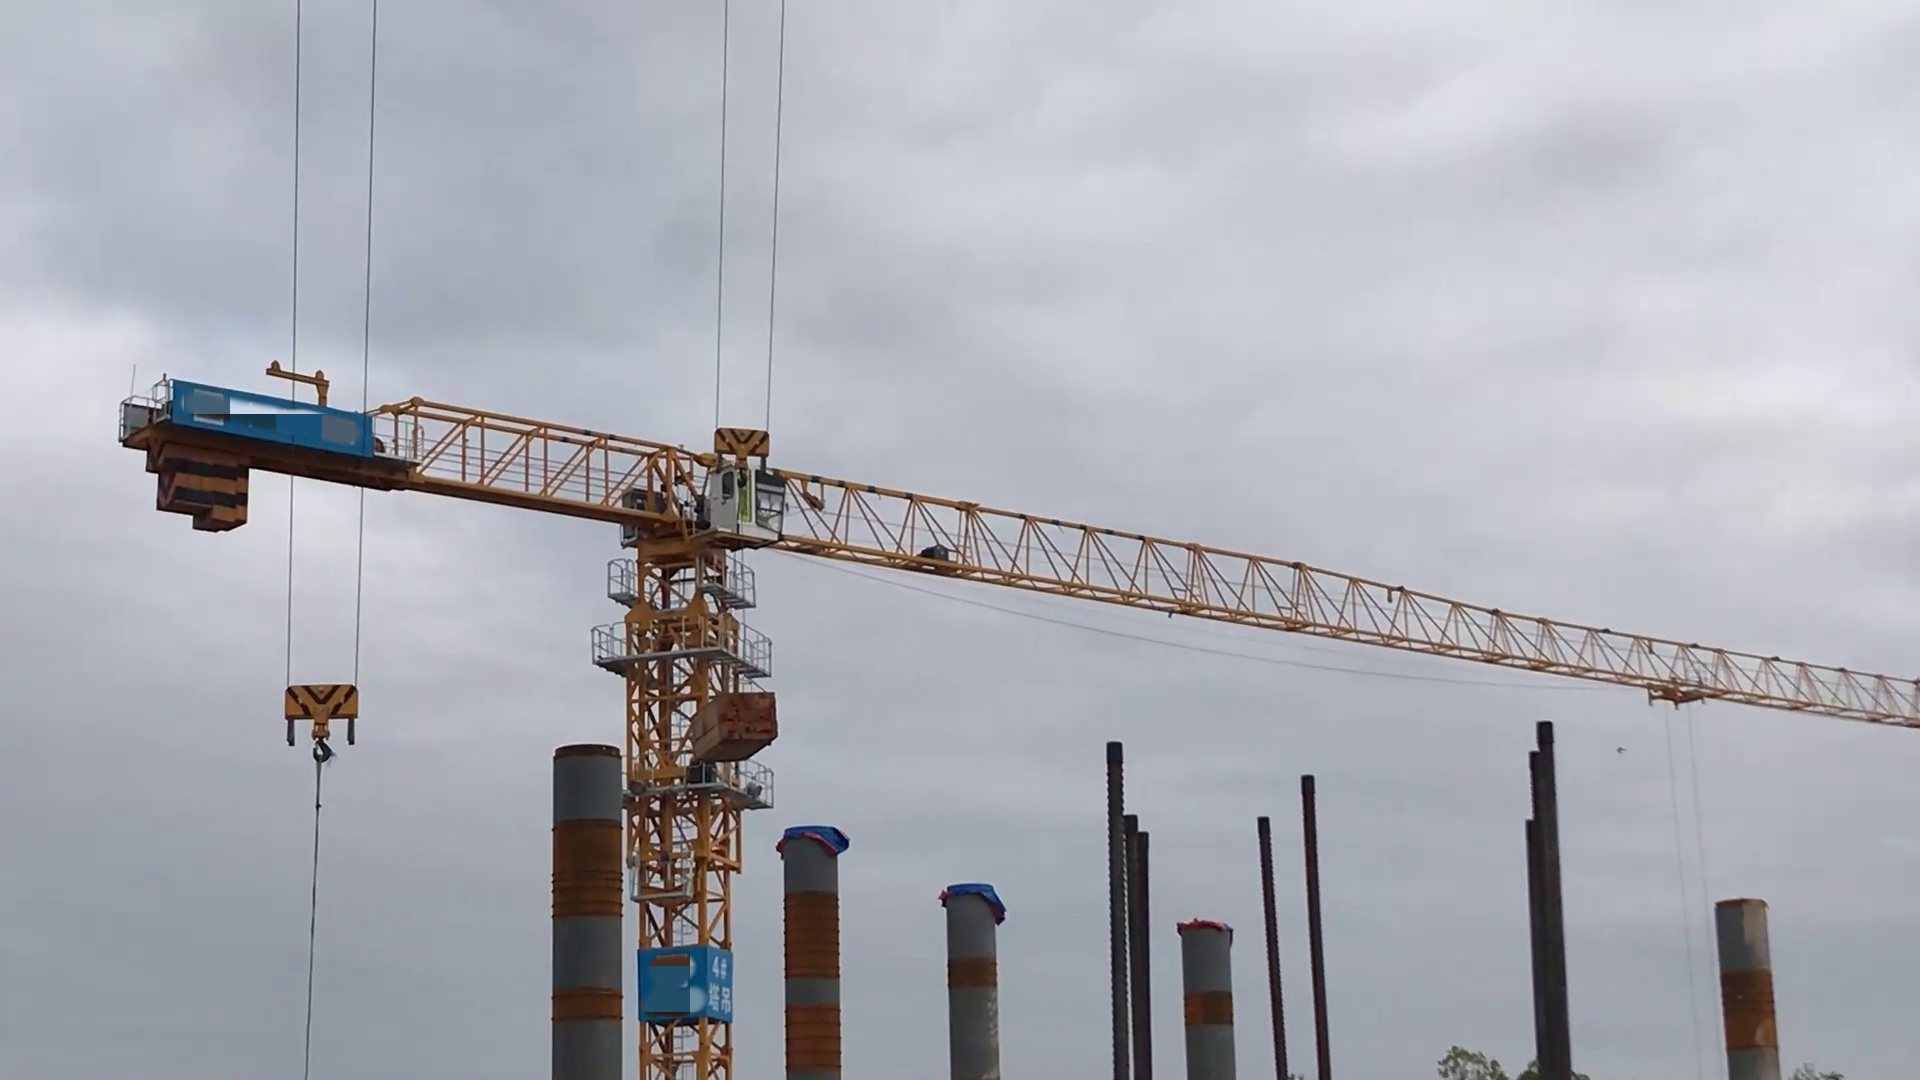hook: (272, 680, 367, 764), (707, 421, 775, 479)
